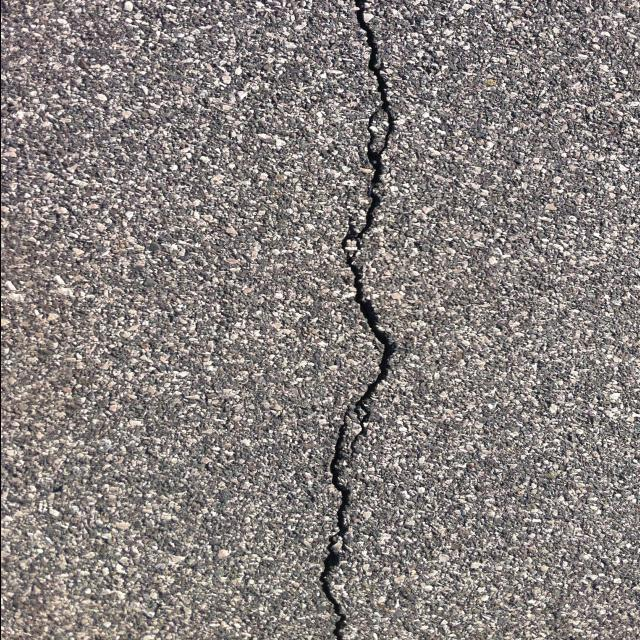Crack: (313, 0, 400, 640)
